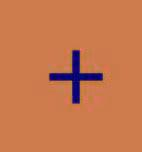ImgButton: (1, 1, 141, 151)
